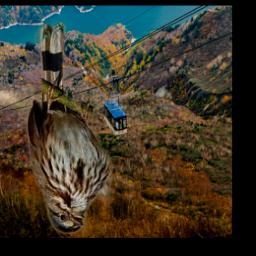Sparrow: (27, 22, 113, 234)
